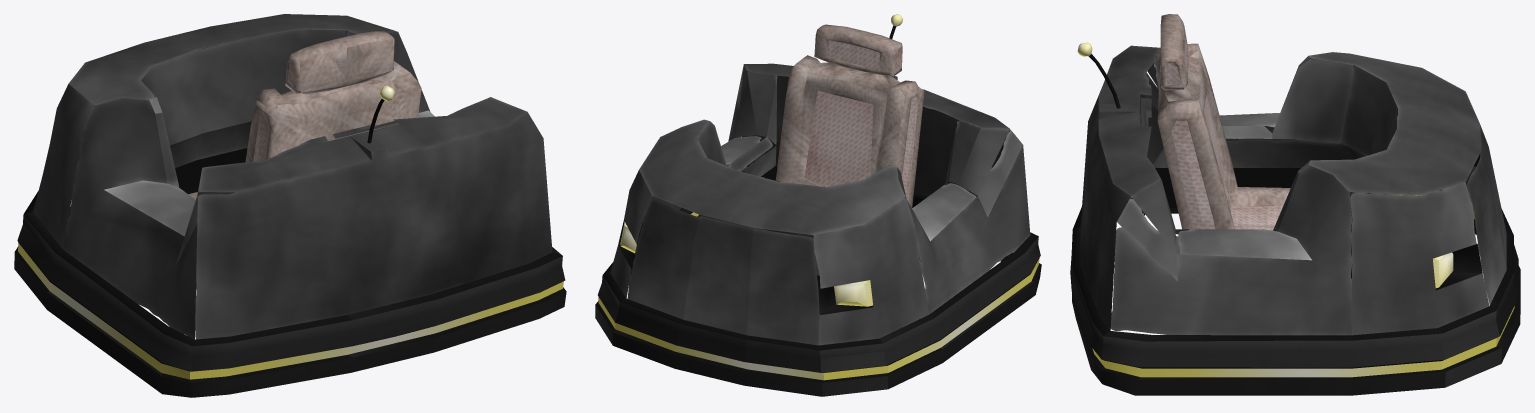
The model's file is BumperKart.fbx.
The picture shows the model from 3 angles, left to right: view 1: azimuth 30°, elevation 25°; view 2: azimuth 150°, elevation 25°; view 3: azimuth 270°, elevation 25°; orthographic projection. The views are drawn at different scales.
Visible parts, largest first — view 1: Cart, Chair, Lights; view 2: Cart, Chair, Lights; view 3: Cart, Chair, Lights.
Boxes of the visible parts, left/top/right/bottom form: Cart: left=14, top=14, right=566, bottom=397; Chair: left=188, top=31, right=421, bottom=199; Lights: left=18, top=85, right=563, bottom=379; Cart: left=595, top=25, right=1041, bottom=396; Chair: left=776, top=24, right=924, bottom=207; Lights: left=598, top=14, right=1039, bottom=380; Cart: left=1070, top=45, right=1520, bottom=395; Chair: left=1157, top=14, right=1290, bottom=230; Lights: left=1077, top=42, right=1514, bottom=377.
Bounding box in the file's own units: 78.73 × 82.35 × 57.15.
Materials: 3 (3 with a texture image).
